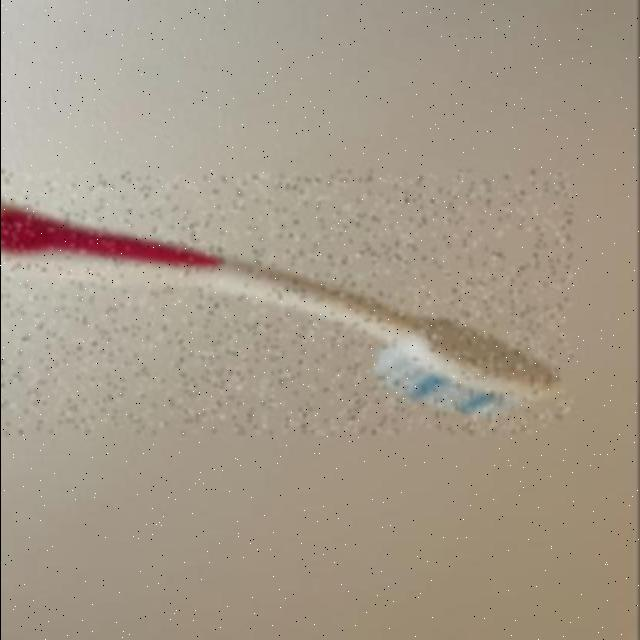toothbrush: (0, 170, 572, 434)
